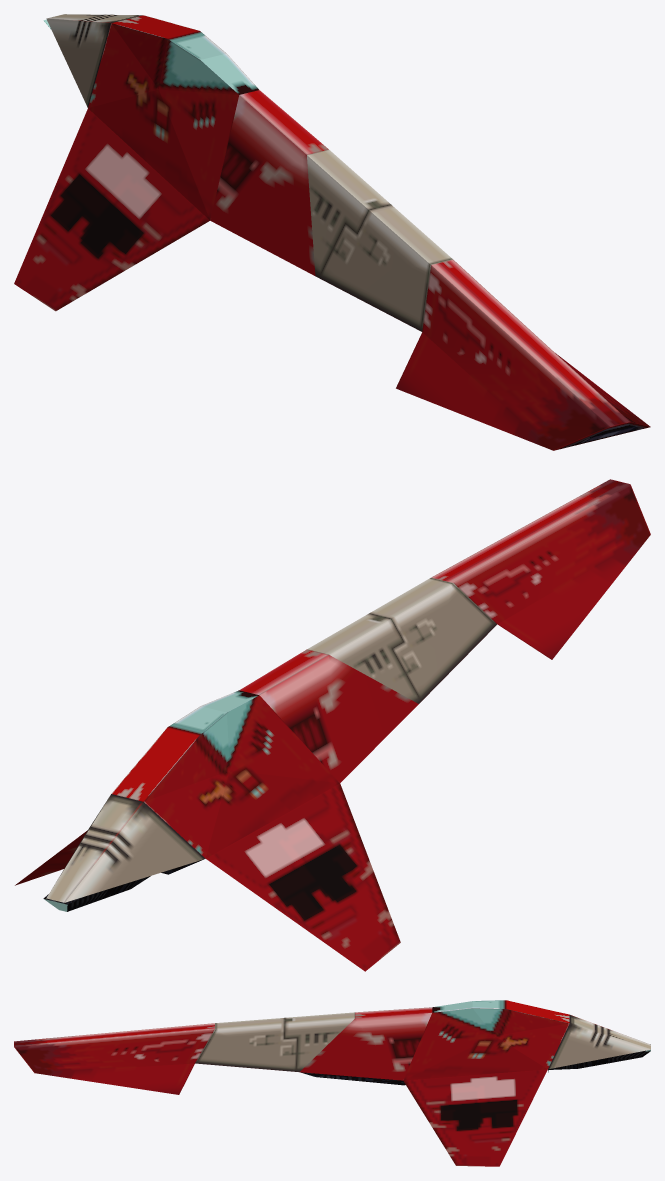
File: AGSystems.obj
The picture shows the model from 3 angles, top to bottom: view 1: azimuth 30°, elevation 25°; view 2: azimuth 150°, elevation 25°; view 3: azimuth 270°, elevation 25°; orthographic projection. The views are drawn at different scales.
Visible parts, largest first — view 1: GameObject; view 2: GameObject; view 3: GameObject.
Part boxes in pixels (box(x1,y1,x2,y2)): GameObject: box(14, 14, 650, 450); GameObject: box(15, 479, 650, 971); GameObject: box(14, 1000, 650, 1166).
Bounding box in the file's own units: 3.46 × 1.9 × 9.64.
